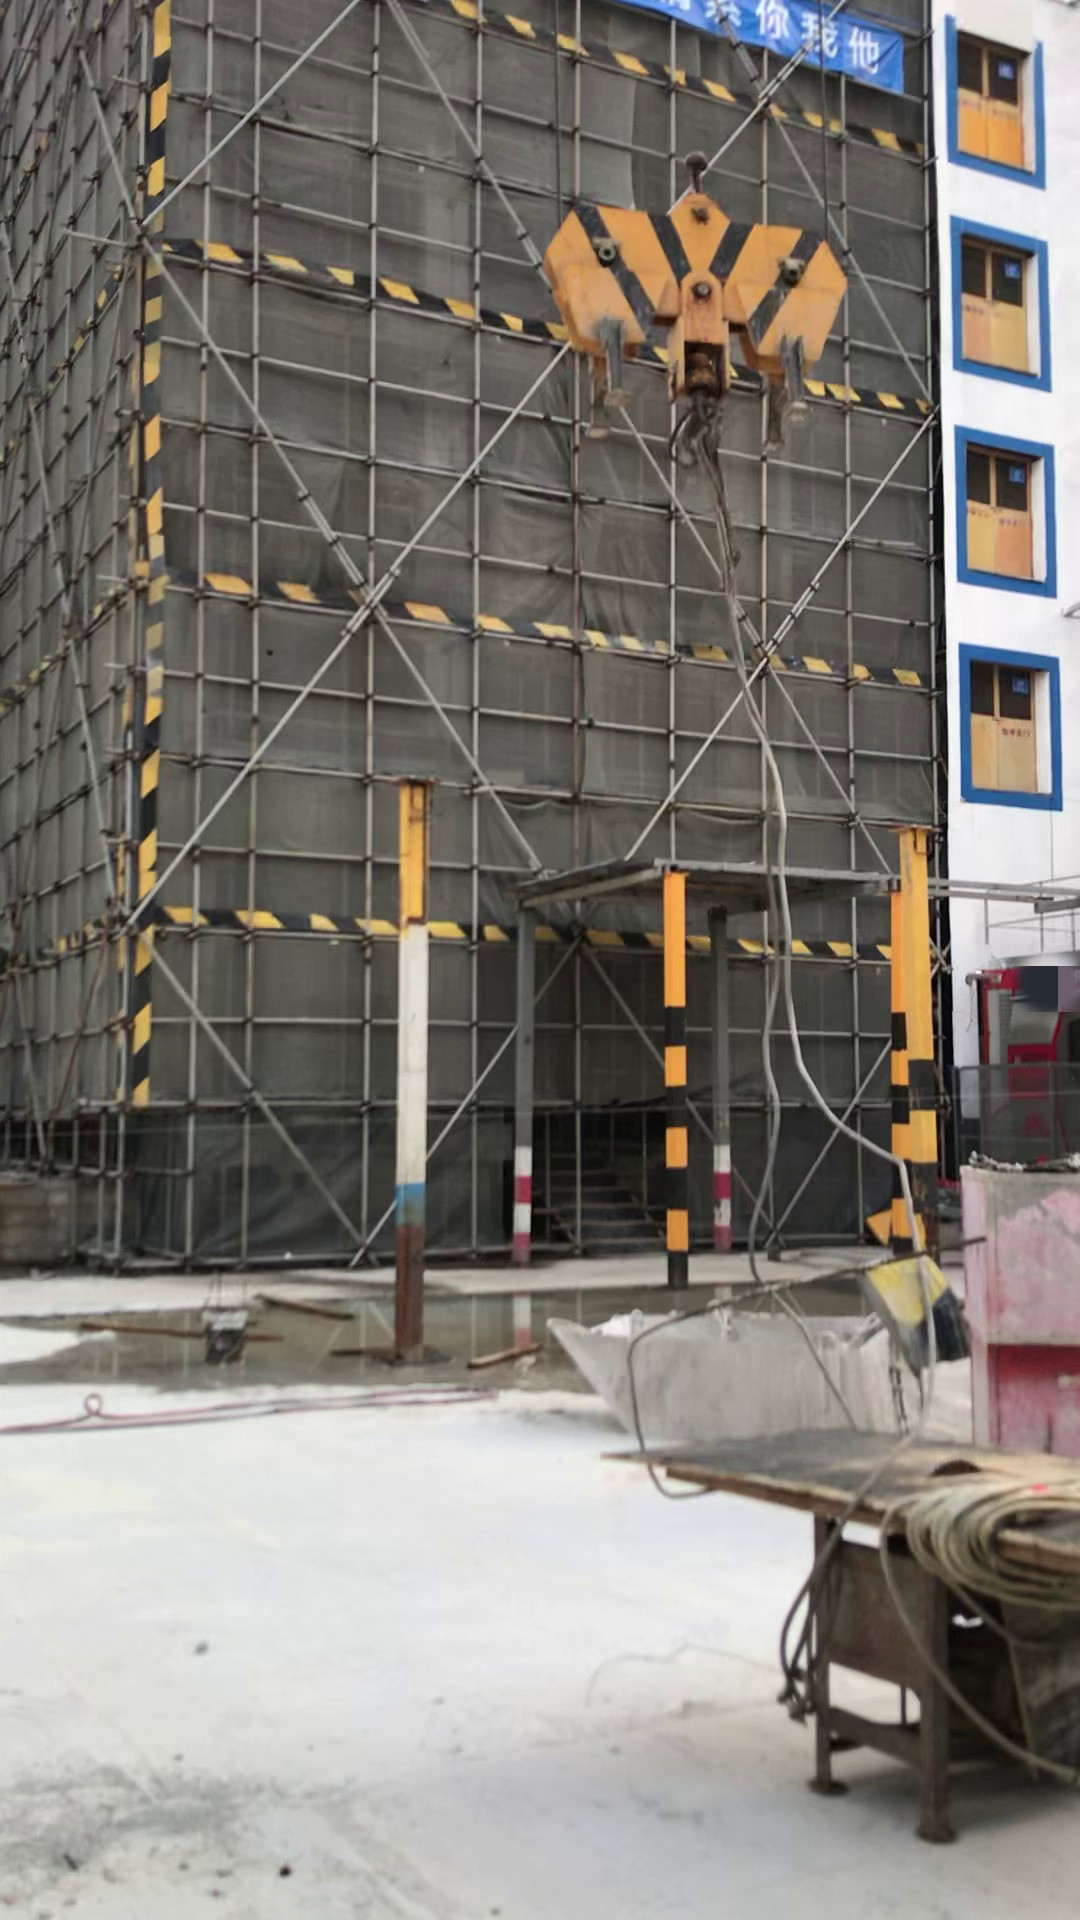cutter: (645, 1391, 1080, 1842)
hook: (533, 144, 862, 487)
hopper: (543, 1294, 939, 1456)
slogan: (665, 1, 913, 102)
